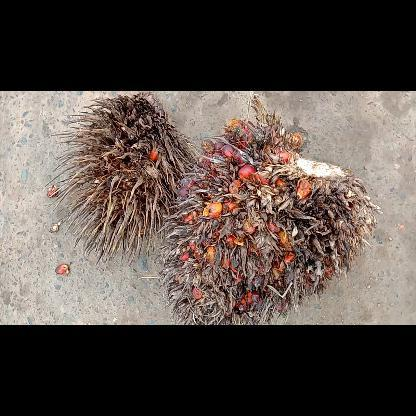Janjang kosong: (44, 91, 200, 265)
Terlalu masak: (157, 90, 382, 324)
